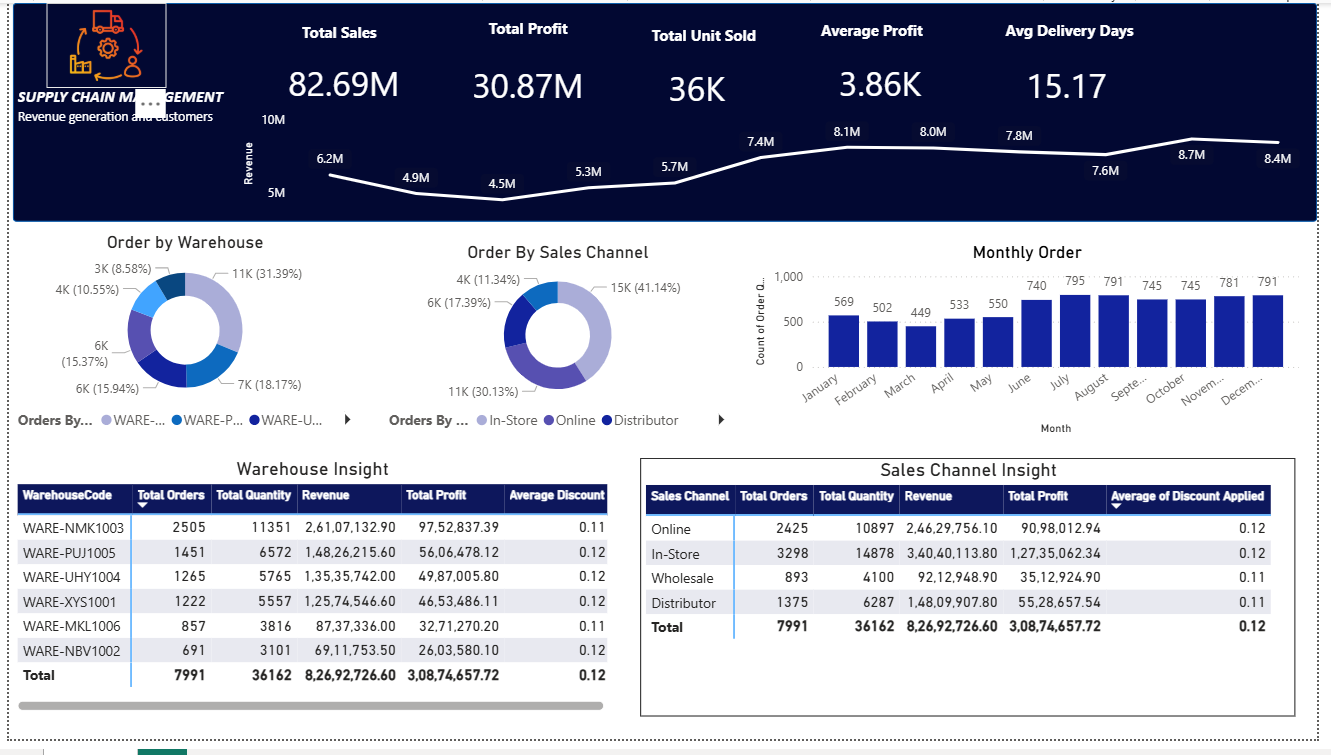

What the dashboard file says about the page in this screenshot:
{"tool":"powerbi","page":{"name":"Page 1","canvas":[1280,720],"ordinal":0},"visuals":[{"type":"image","box":[28.8,28.8,124.9,94.7],"z":0},{"type":"shape","box":[4.1,0,1276.2,214.1],"z":1000},{"type":"textbox","box":[4.1,76.8,230.5,46.7],"z":2000},{"type":"image","box":[37,0,116.6,83.7],"z":3000},{"type":"card","fields":{"Values":["Sum(main.Revenue)"]},"box":[248.4,55.2,159.2,46.7],"z":4000},{"type":"card","fields":{"Values":["Sum(main.Profit)"]},"box":[425.4,60.4,164.7,41.2],"z":5000},{"type":"card","fields":{"Values":["Sum(main.Order Quantity)"]},"box":[607.9,61.7,130.4,45.3],"z":6000},{"type":"card","fields":{"Values":["Avg(main.Profit)"]},"box":[772.6,57.6,159.2,41.2],"z":7000},{"type":"card","fields":{"Values":["Avg(main.Ship Date)"]},"box":[955.1,60.4,159.2,41.2],"z":8000},{"type":"textbox","box":[248.4,13.7,149.6,34.3],"z":9000},{"type":"textbox","box":[425.4,9.6,164.7,45.3],"z":10000},{"type":"lineChart","fields":{"Y":["Sum(main.Revenue)"],"Category":["main.OrderDate.Variation.Date Hierarchy.Month"]},"box":[223.7,100.2,1056.6,105.7],"z":11000},{"type":"columnChart","title":"Monthly Order ","fields":{"Y":["CountNonNull(main.Order Quantity)"],"Category":["main.OrderDate.Variation.Date Hierarchy.Month"]},"box":[724.5,233.3,542,193.5],"z":12000},{"type":"donutChart","title":"Order By Sales Channel","fields":{"Y":["Sum(main.Order Quantity)"],"Category":["main.Sales Channel"]},"box":[366.4,233.3,340.3,193.5],"z":13000},{"type":"donutChart","title":" Order by Warehouse","fields":{"Y":["Sum(main.Order Quantity)"],"Category":["main.WarehouseCode"]},"box":[4.1,223.7,337.6,203.1],"z":14000},{"type":"pivotTable","title":"Warehouse Insight","fields":{"Rows":["main.WarehouseCode"],"Values":["Count(main.OrderNumber)","Sum(main.Order Quantity)","Sum(main.Revenue)","Sum(main.Profit)","Avg(main.Discount Applied)"]},"box":[3.7,445.1,587,251.9],"z":15000},{"type":"textbox","box":[607.9,16.5,144.1,41.2],"z":17000},{"type":"textbox","box":[772.6,11,142.7,39.8],"z":18000},{"type":"textbox","box":[955.1,11,164.7,39.8],"z":19000},{"type":"pivotTable","title":"Sales Channel Insight","fields":{"Rows":["main.Sales Channel"],"Values":["Count(main.OrderNumber)","Sum(main.Order Quantity)","Sum(main.Revenue)","Sum(main.Profit)","Avg(main.Discount Applied)"]},"box":[617.5,444.6,640.8,252.5],"z":20000}]}

Visuals, with their boxes in screenshot pixels (x1, y1, x2, y2), scaled from the page's 1280x720 canvas onto the 1331x755 screenshot:
image: left=30, top=30, right=160, bottom=130
shape: left=4, top=0, right=1330, bottom=225
textbox: left=4, top=81, right=244, bottom=130
image: left=38, top=0, right=160, bottom=88
card - Sum(main.Revenue): left=258, top=58, right=424, bottom=107
card - Sum(main.Profit): left=442, top=63, right=614, bottom=107
card - Sum(main.Order Quantity): left=632, top=65, right=768, bottom=112
card - Avg(main.Profit): left=803, top=60, right=969, bottom=104
card - Avg(main.Ship Date): left=993, top=63, right=1159, bottom=107
textbox: left=258, top=14, right=414, bottom=50
textbox: left=442, top=10, right=614, bottom=58
lineChart - Sum(main.Revenue) x main.OrderDate.Variation.Date Hierarchy.Month: left=233, top=105, right=1330, bottom=216
"Monthly Order " columnChart: left=753, top=245, right=1317, bottom=448
"Order By Sales Channel" donutChart: left=381, top=245, right=735, bottom=448
" Order by Warehouse" donutChart: left=4, top=235, right=355, bottom=448
"Warehouse Insight" pivotTable: left=4, top=467, right=614, bottom=731
textbox: left=632, top=17, right=782, bottom=61
textbox: left=803, top=12, right=952, bottom=53
textbox: left=993, top=12, right=1164, bottom=53
"Sales Channel Insight" pivotTable: left=642, top=466, right=1308, bottom=731
